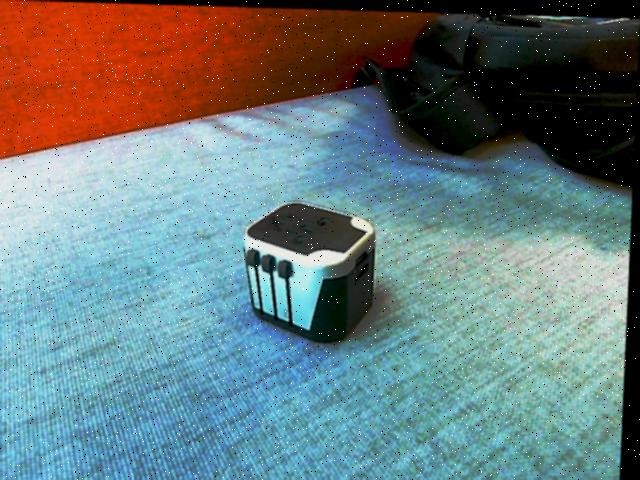adapter: (240, 197, 379, 342)
